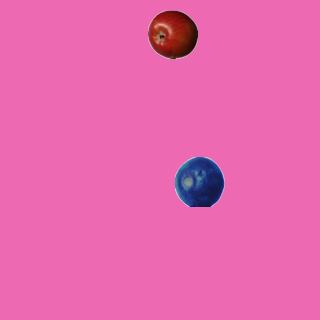Apple Braeburn: (147, 9, 197, 59)
Huckleberry: (174, 156, 224, 206)
